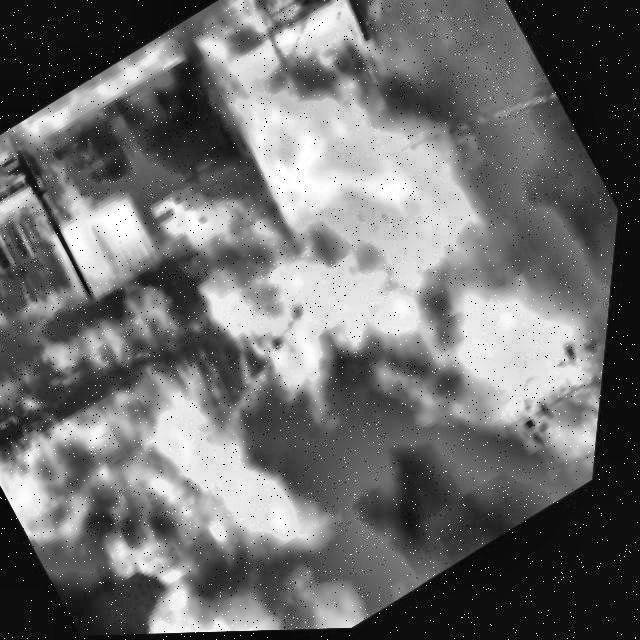Fire: (93, 0, 640, 628), (0, 272, 435, 640)
